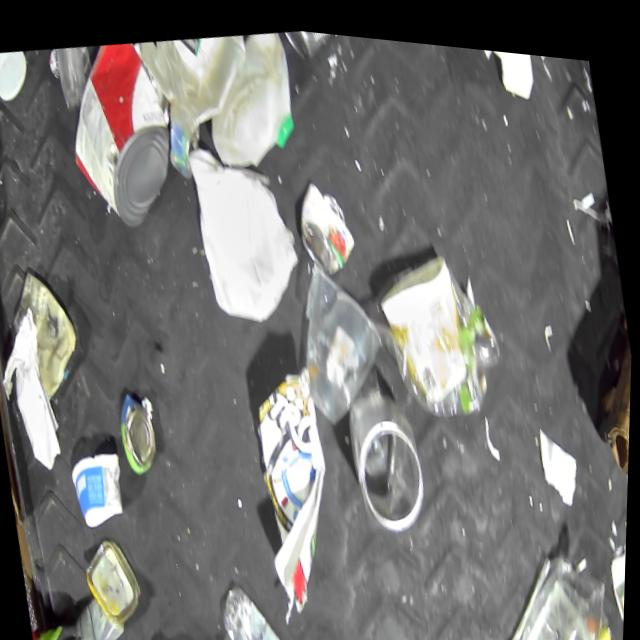can: (54, 29, 186, 236), (139, 21, 256, 145), (285, 155, 362, 278), (110, 370, 172, 475), (273, 22, 362, 75), (142, 626, 192, 640)
milk_jug: (177, 121, 313, 333), (194, 18, 306, 172)
plastic_bottle: (217, 563, 318, 640)
